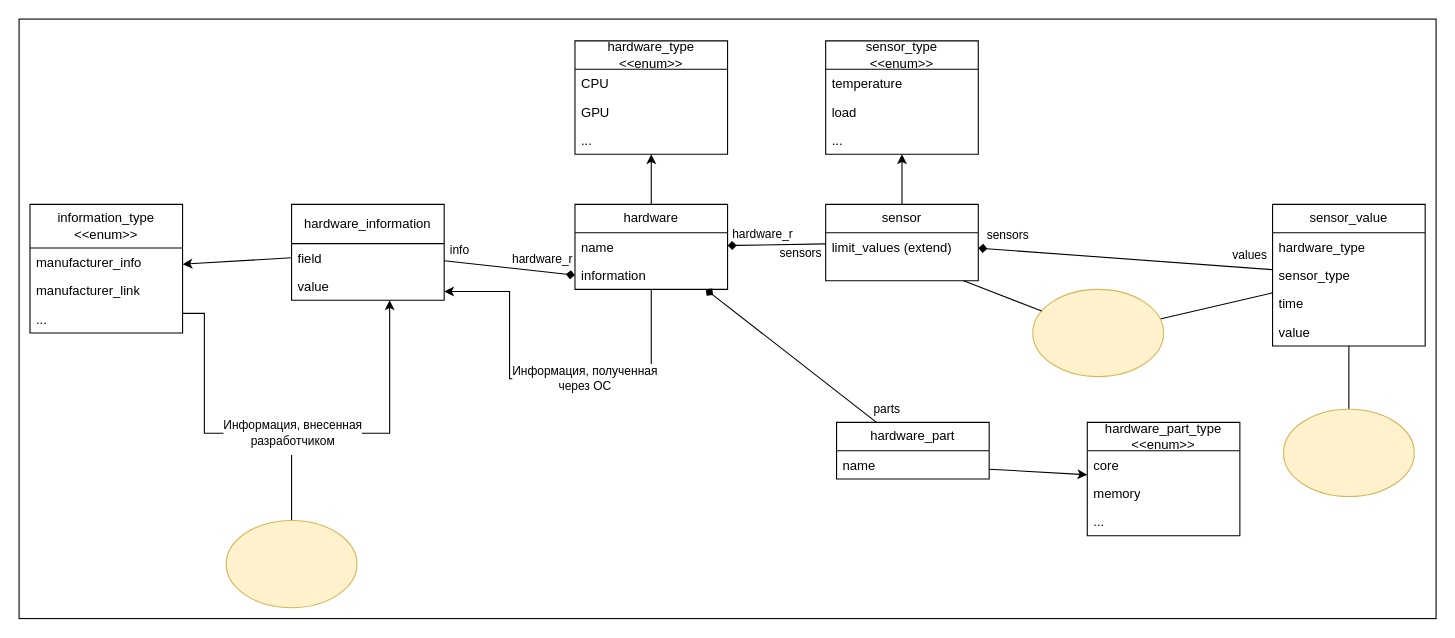
Some shapes in this 1455 by 638 pixel diagram are drawn without their labels. Each missing label, with the centre of its shape:
"Заполнить информацию о комплектующих" goes at (x=291, y=563).
"Найти отклонения (extend)" goes at (x=1098, y=332).
"Построить графики" goes at (x=1348, y=452).
